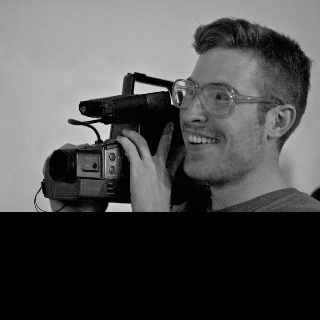without_mask: (179, 54, 267, 180)
